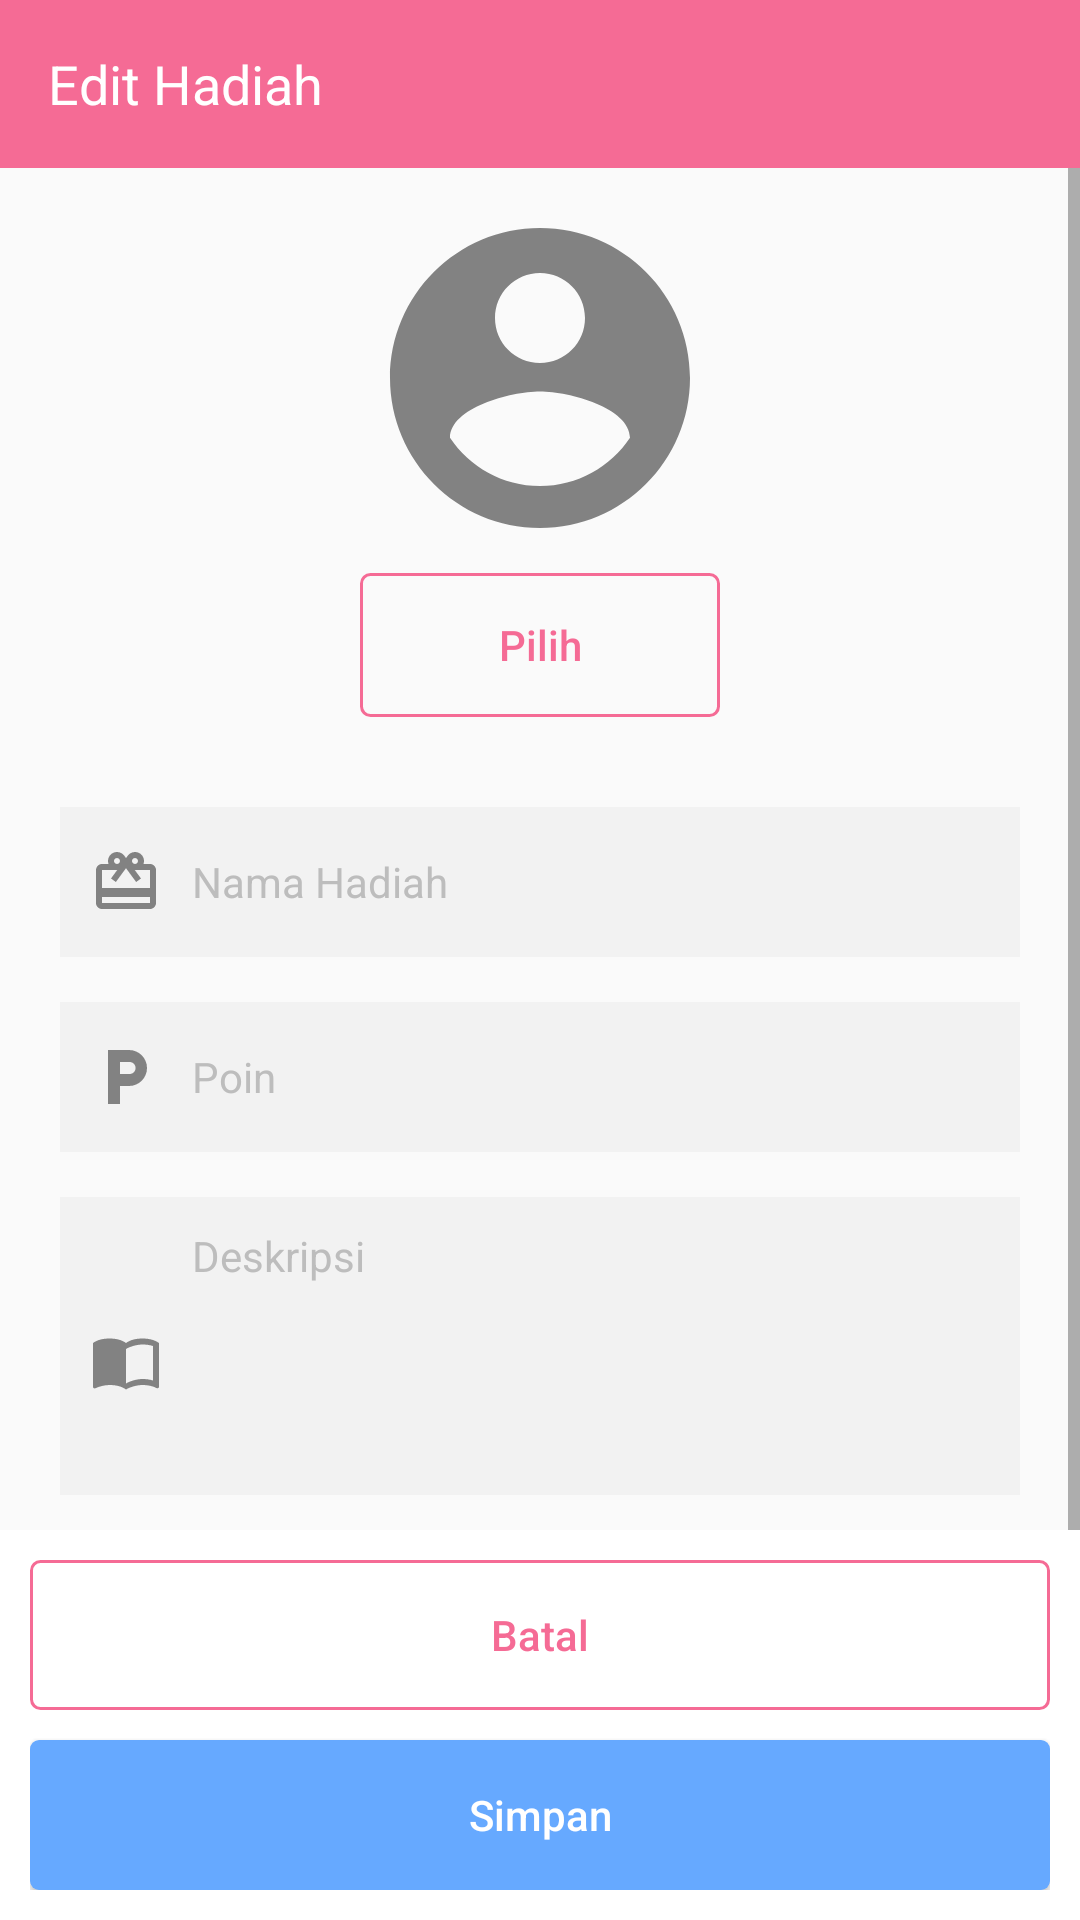

Icons on this 1080x1920 Android screen, each with the point to tap as point (x, y):
account circle: point (540, 378)
